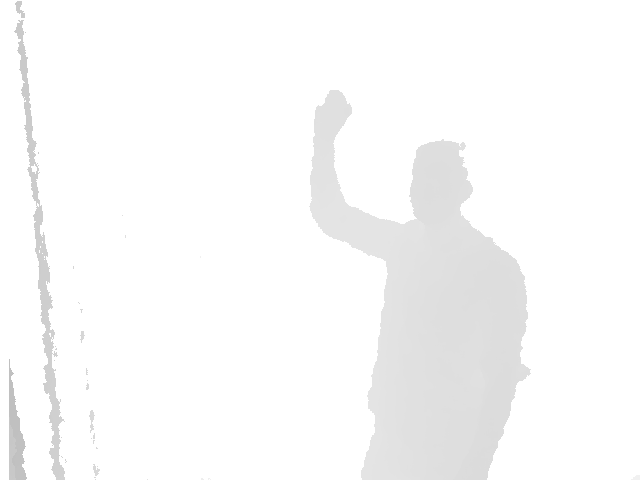hand: (312, 88, 353, 144)
head: (410, 139, 475, 219)
person: (310, 88, 532, 480)
